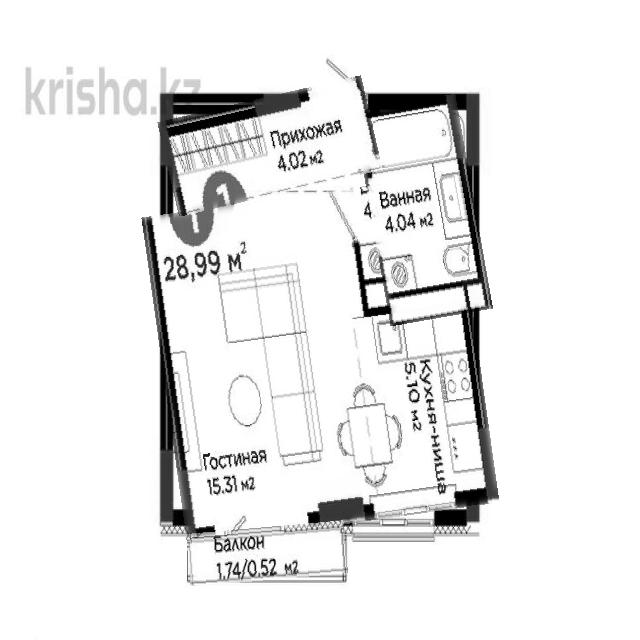balcony: (187, 524, 347, 583)
bathroom: (362, 98, 484, 322)
hallway: (161, 86, 378, 205)
studio: (142, 188, 497, 543)
